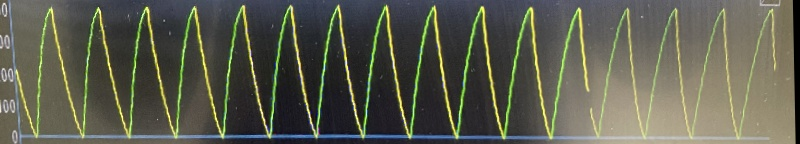normal_volume: (27, 2, 748, 143)
